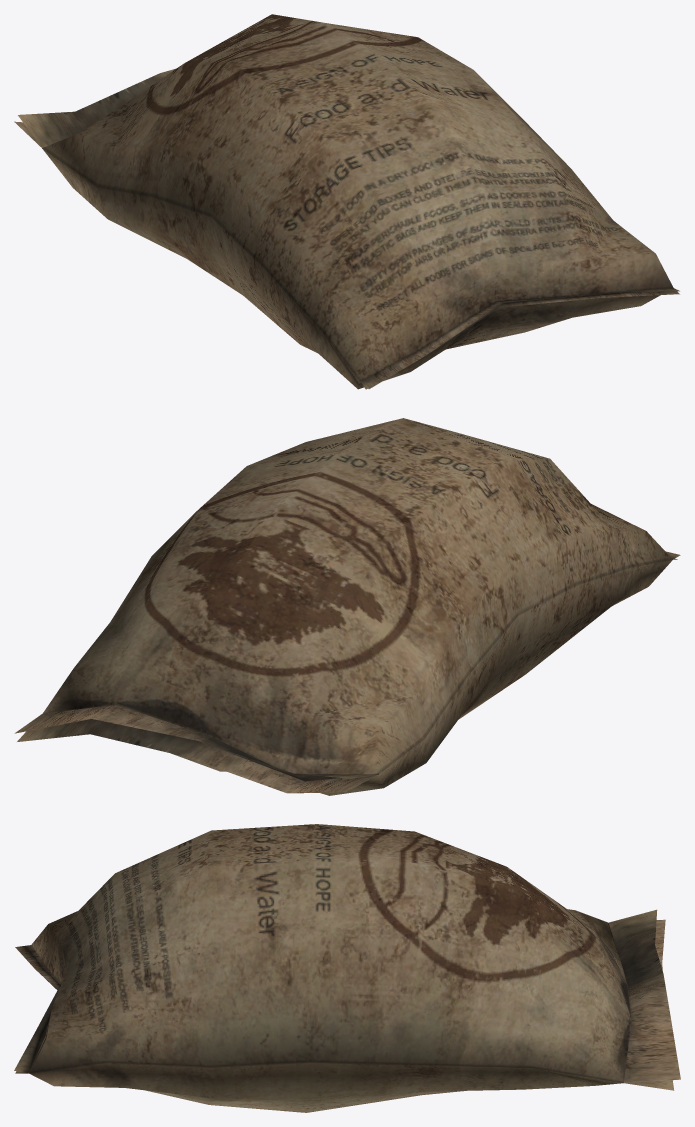
File: p6_pak_food_sack_tan_lod1.glb
3 views of the same model, one above another, from view 1: azimuth 30°, elevation 25°; view 2: azimuth 150°, elevation 25°; view 3: azimuth 270°, elevation 25° (orthographic). The views are drawn at different scales.
Visible parts, largest first — view 1: surf0; view 2: surf0; view 3: surf0.
Boxes of the visible parts, x1,y1,x2,y2 form: surf0: (14,14,679,389); surf0: (14,418,680,795); surf0: (14,824,680,1112).
Size of the model in its own units: 30.39 by 23.51 by 56.
